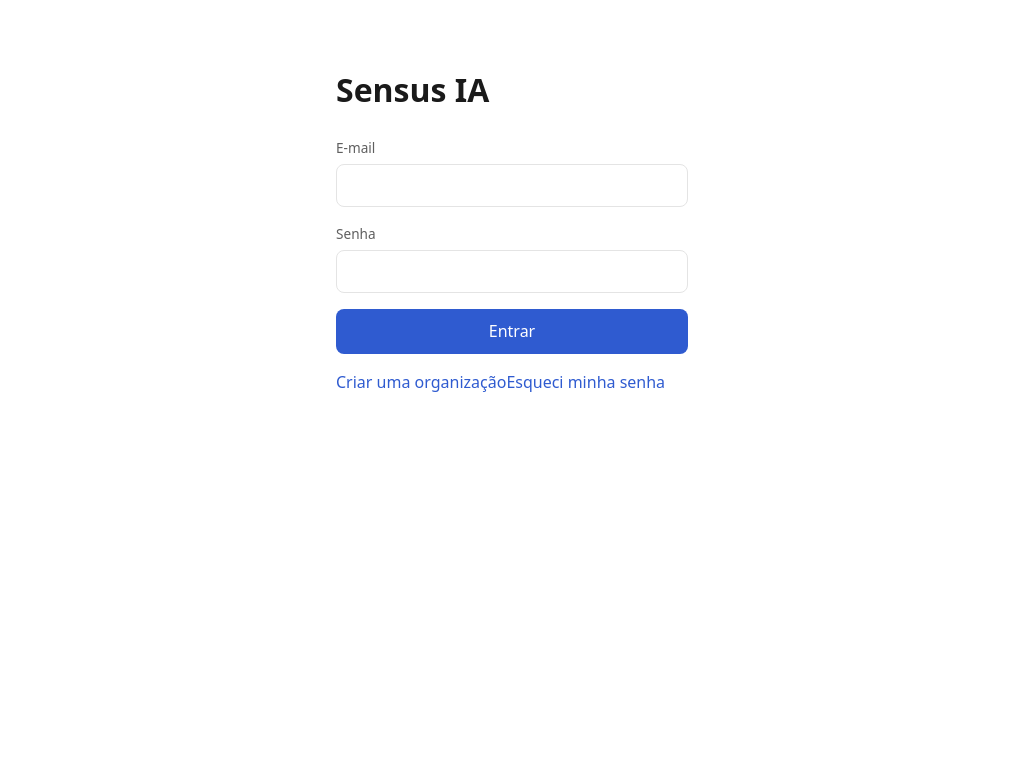
Test: App › entrar leva ao chat
The image size is (1024, 768).
Type "ana@acme.com" into the field labelled "E-mail" at (512, 185), box [336,164,688,207]
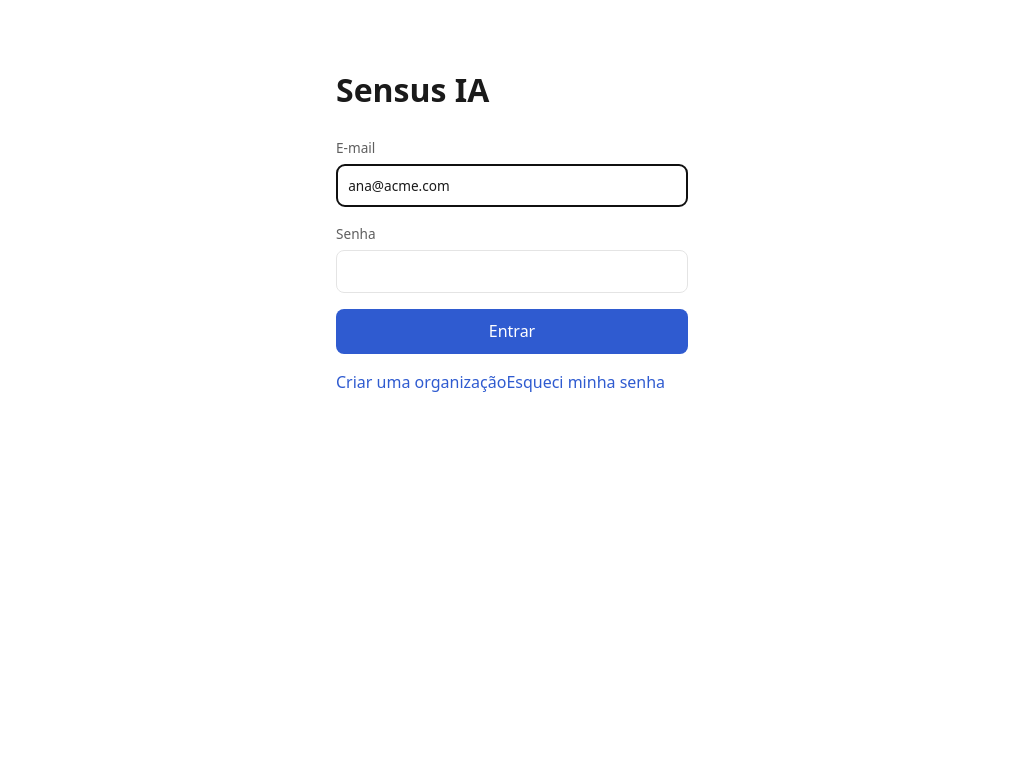
Type "senha-bem-longa" into the password field labelled "Senha" at (512, 272), box [336,250,688,293]
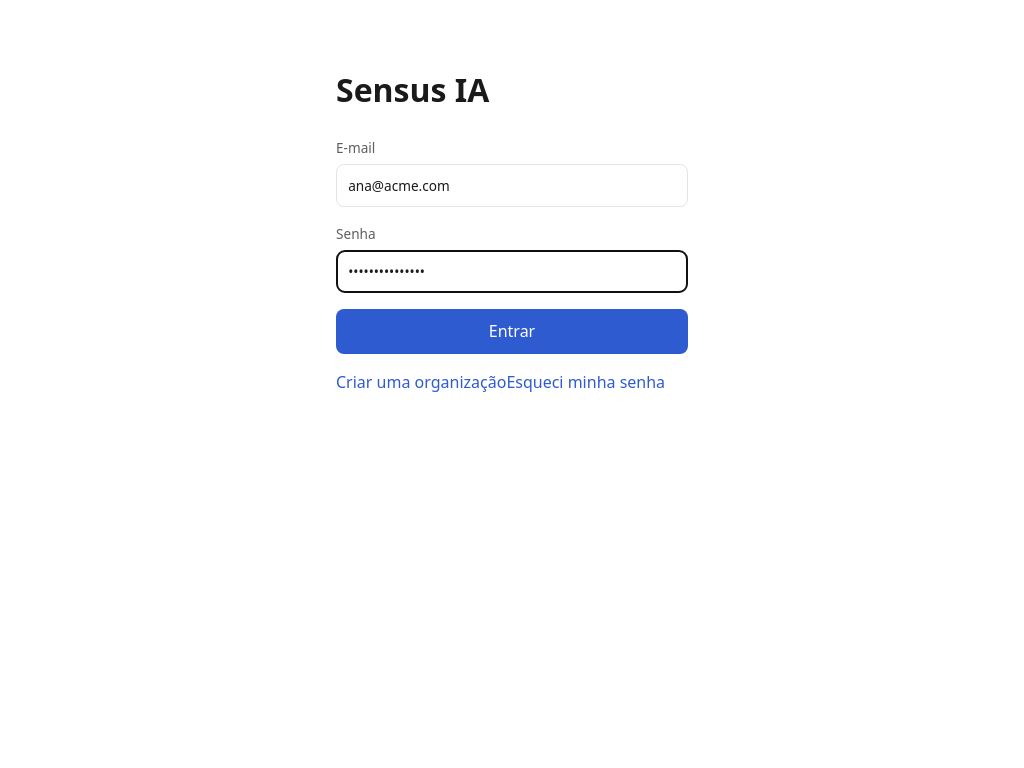
Click the button "Entrar" at (512, 332), box [336,309,688,354]
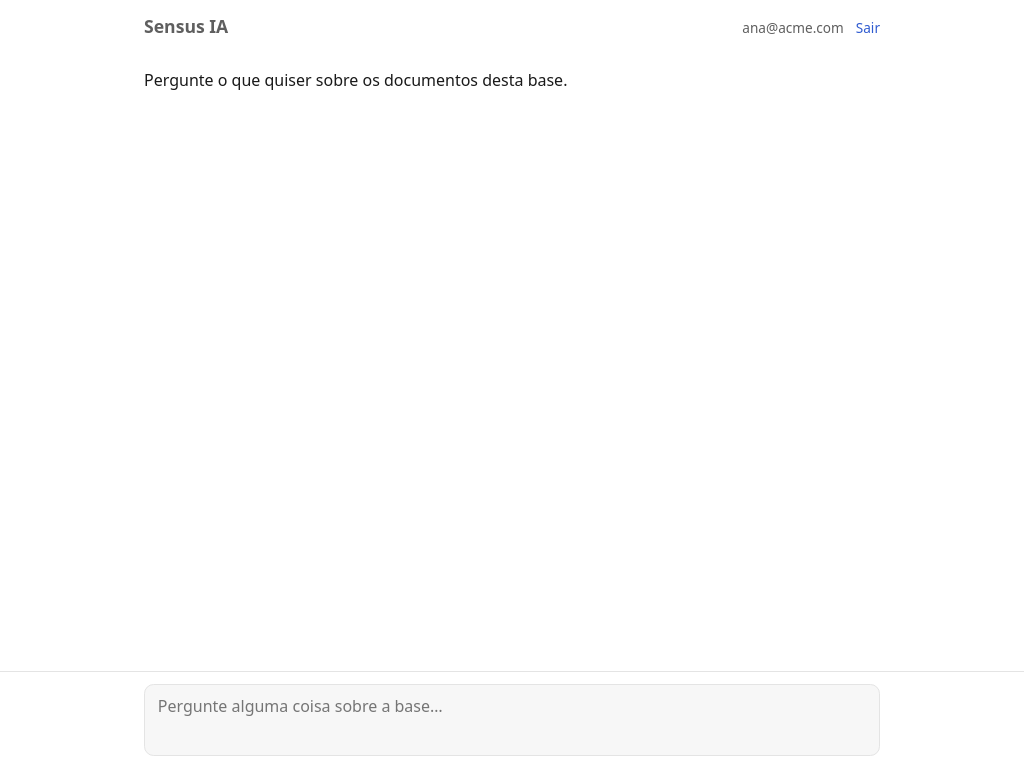
Result: the text box named "pergunta" is shown at [144,684,880,756]
